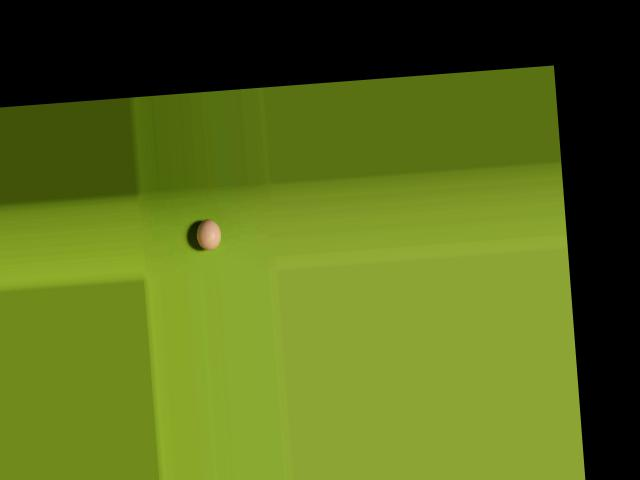egg: (195, 217, 220, 250)
